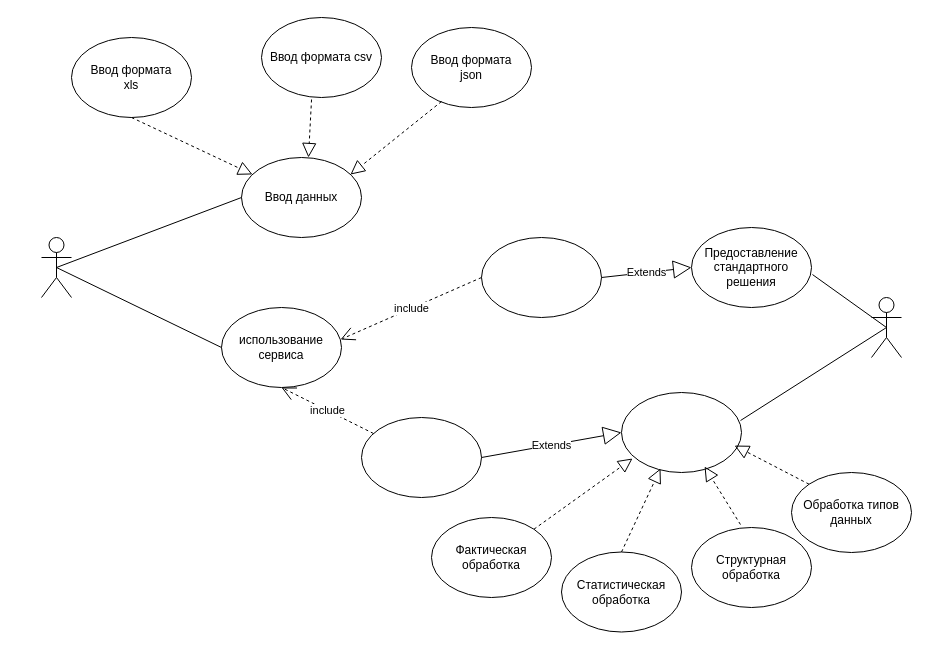
Image size: 936x650. Some labels were removed from this diagram. The shapes that lost their labels are listed below. From the top down, each one's box as (x1, y1, x2, y2) in pixels, then its label:
(40, 236, 72, 298): Пользователь
(480, 236, 602, 318): Проведение общей/стандартизированной предобработки
(870, 296, 902, 358): Библиотека
(620, 392, 742, 472): Предоставления набора функций по работе с данными
(360, 416, 482, 498): Проведение специфичной предобработки
